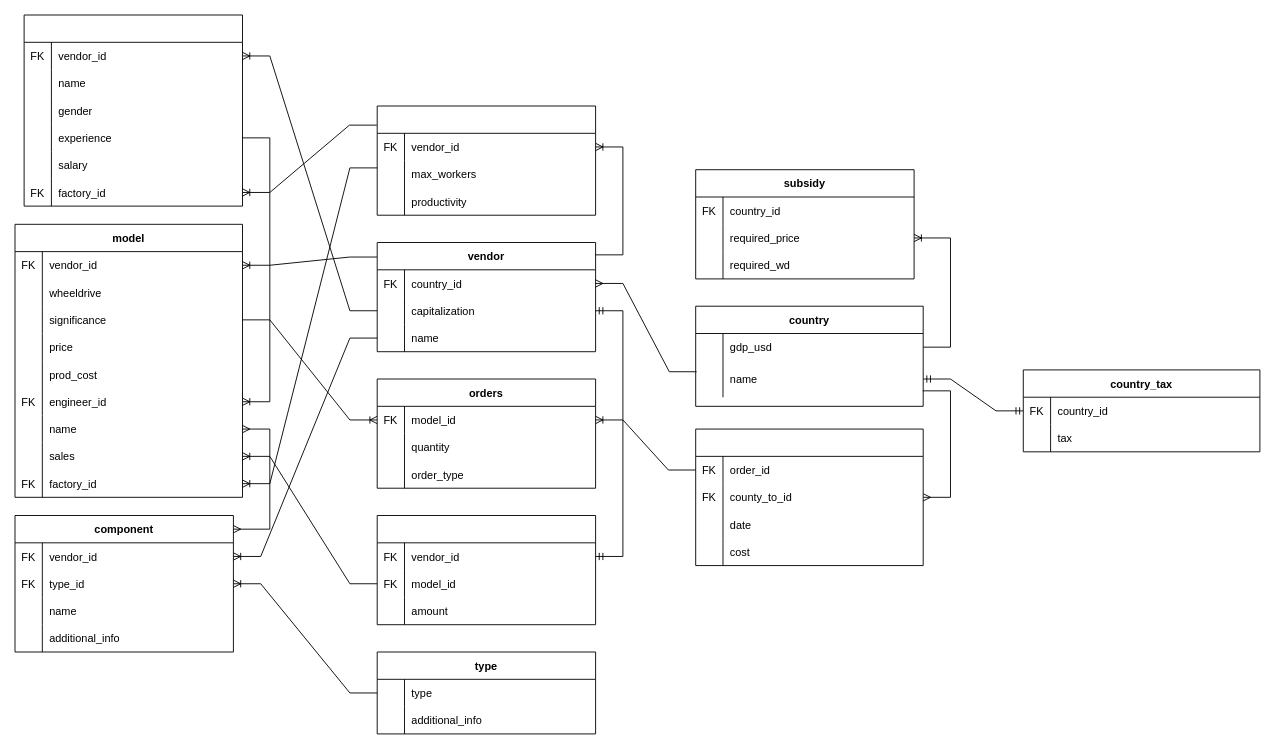
Some shapes in this 1275 by 749 pixel diagram are drawn without their labels. The shapes that lost their labels are listed below. From the top down, each one's box as (x1, y1, x2, y2) in pixels, then its label:
(23, 14, 243, 206): engineer
(376, 105, 596, 215): factory
(695, 428, 923, 566): shipment
(376, 515, 596, 625): storage
